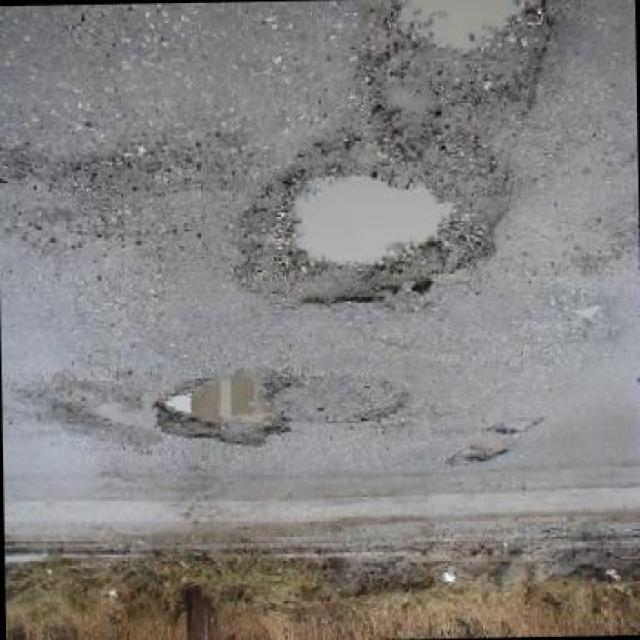pothole1: (229, 122, 522, 318), (348, 0, 558, 120), (148, 365, 292, 453), (445, 440, 510, 469), (485, 415, 540, 439)
